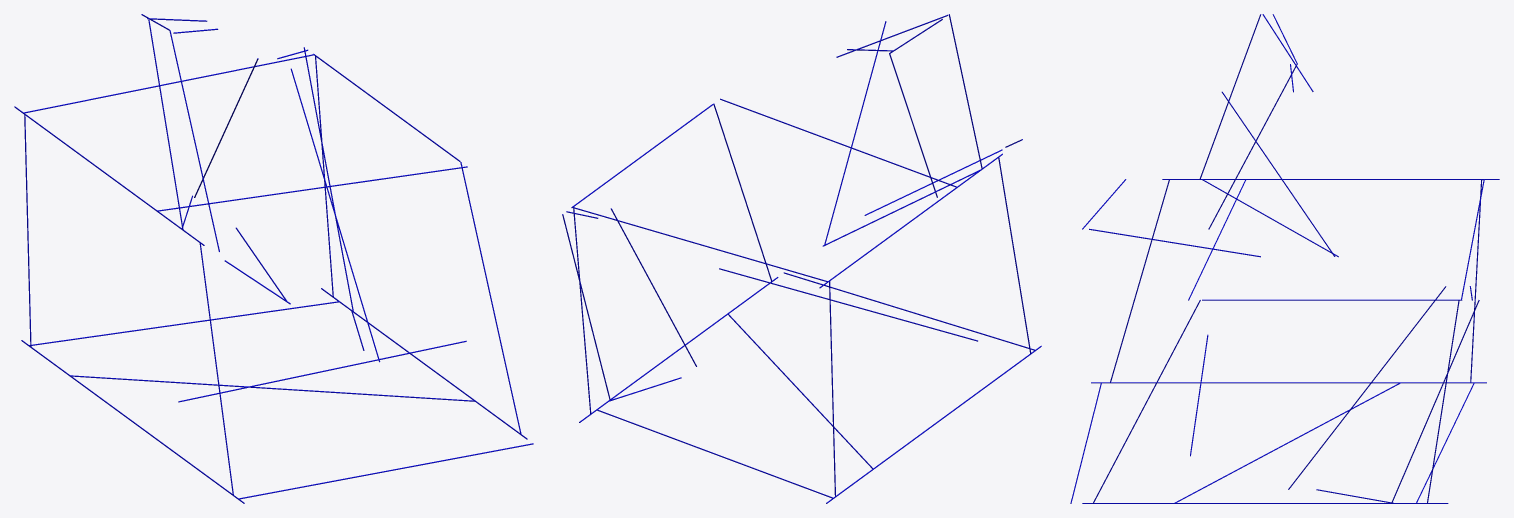
Rendered from corrected_3d_strokes.glb.
The picture shows the model from 3 angles, left to right: view 1: azimuth 30°, elevation 25°; view 2: azimuth 150°, elevation 25°; view 3: azimuth 270°, elevation 25°; orthographic projection. The views are drawn at different scales.
Visible parts, largest first — view 1: world; view 2: world; view 3: world.
Part boxes in pixels (x1=…): world: x1=14, y1=14, x2=533, y2=503; world: x1=562, y1=14, x2=1041, y2=503; world: x1=1070, y1=14, x2=1499, y2=503.
Size of the model in its own units: 9.9 by 14.07 by 14.81.
